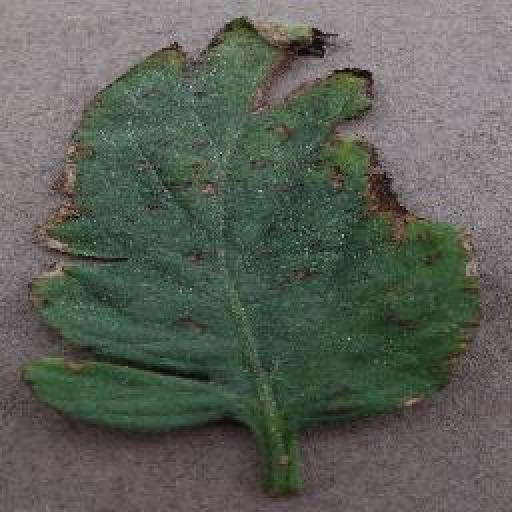Bacterial Spot: (15, 10, 495, 459)
